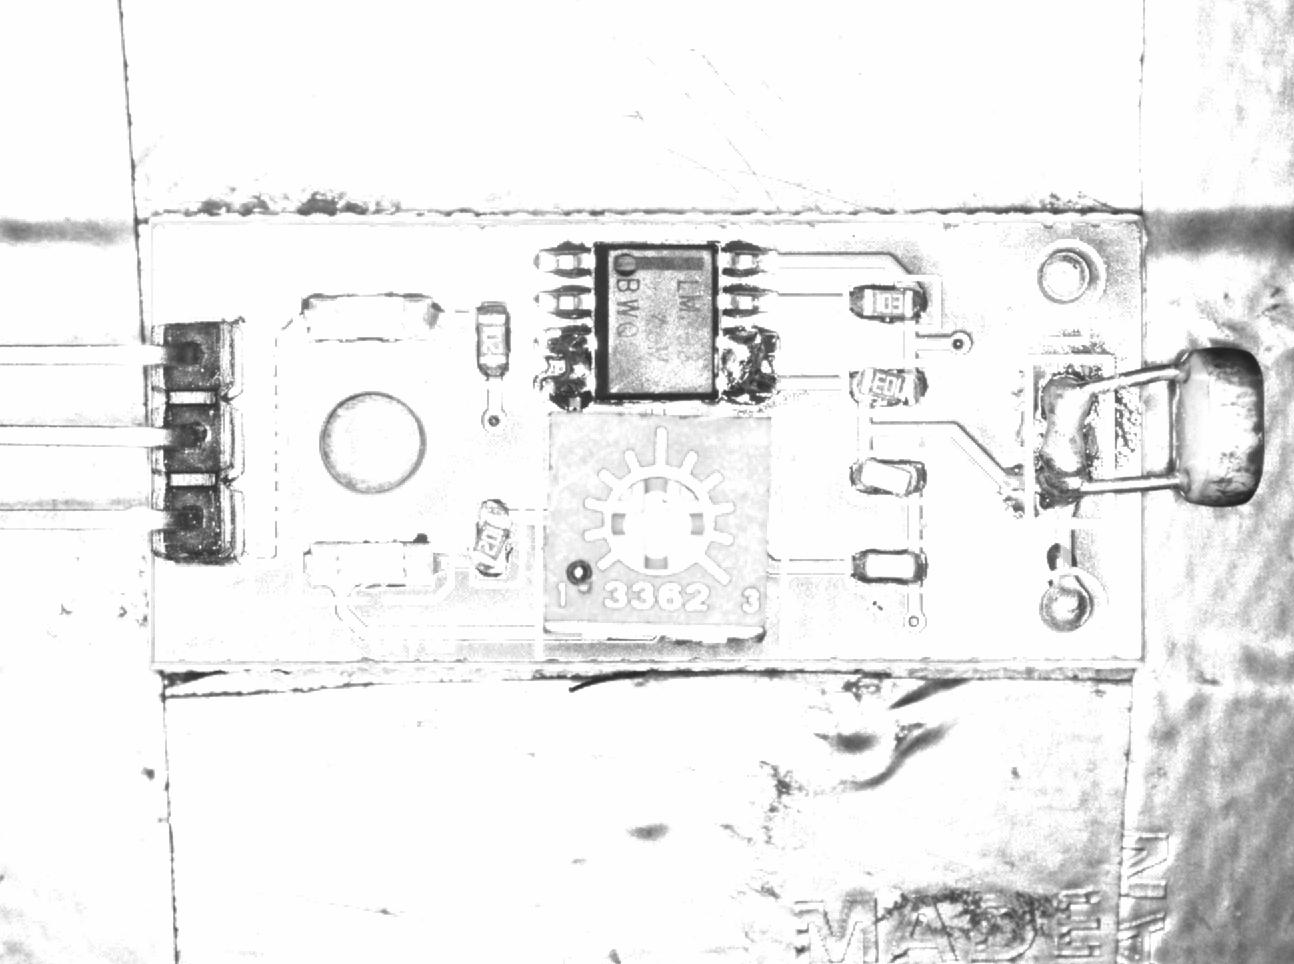bridge: (1039, 356, 1114, 530), (716, 314, 784, 411), (531, 318, 596, 406)
lifted: (840, 450, 933, 509), (465, 485, 519, 584), (840, 363, 936, 413), (843, 282, 941, 327)
ok: (844, 543, 931, 596), (471, 293, 515, 385)
